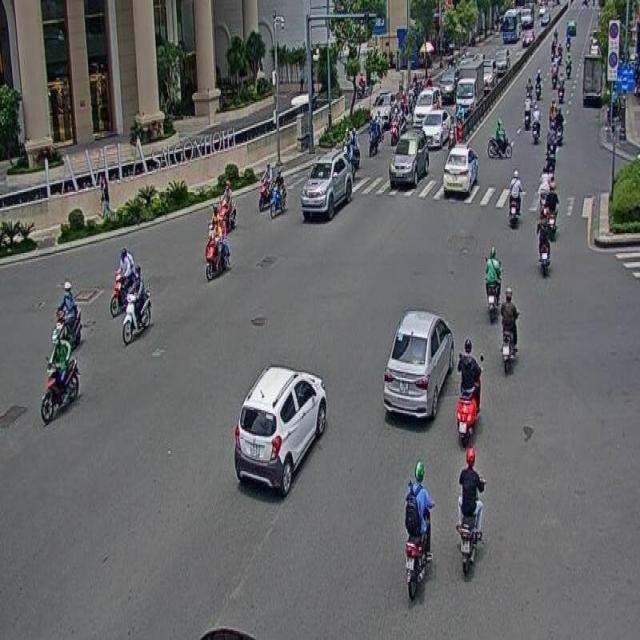car: (234, 362, 331, 500), (382, 306, 453, 424), (301, 154, 353, 222), (444, 143, 478, 198), (499, 286, 518, 374)
motorcycle: (402, 456, 430, 604), (455, 447, 486, 578), (40, 331, 80, 422), (455, 337, 485, 443), (50, 276, 83, 349), (121, 264, 151, 342), (108, 245, 137, 314), (204, 217, 230, 280), (483, 242, 502, 323), (508, 168, 522, 228), (538, 221, 551, 277)
